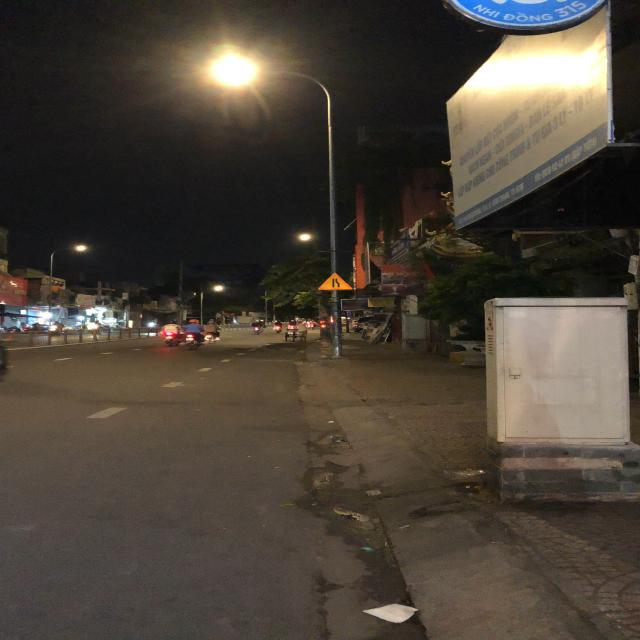Bien bao duong bi thu hep: (316, 270, 356, 290)
